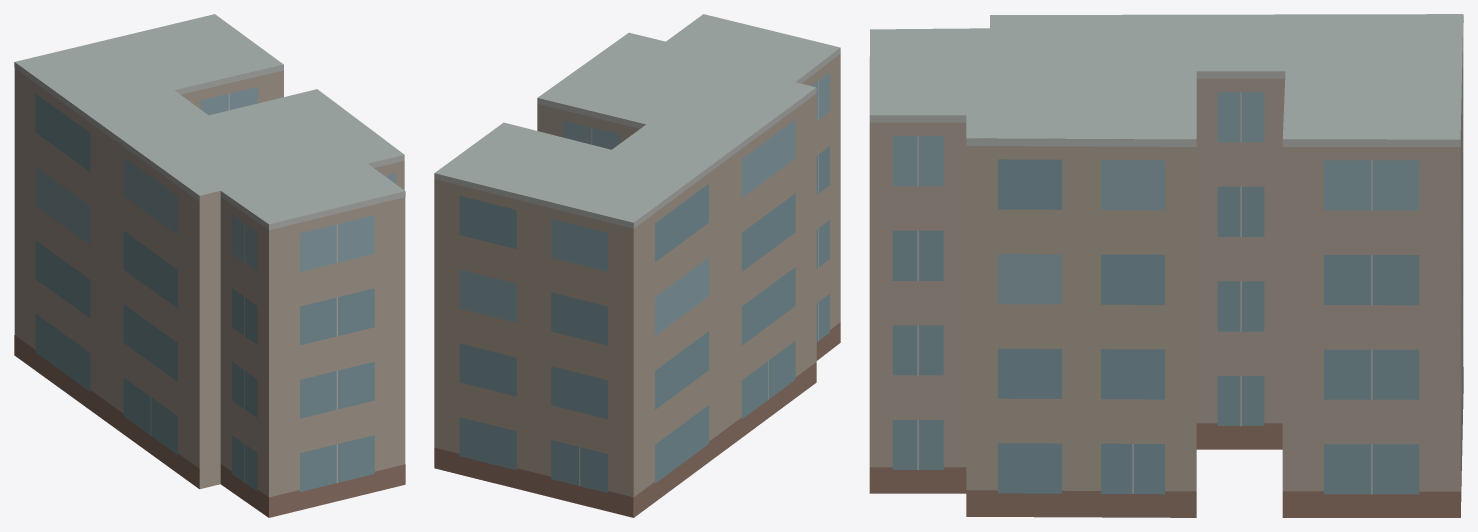
Rendered from survey-upis-32551912.glb.
3 renders of one model, left to right at view 1: azimuth 30°, elevation 25°; view 2: azimuth 150°, elevation 25°; view 3: azimuth 270°, elevation 25°, orthographic. The views are drawn at different scales.
Visible parts, largest first — view 1: survey-upis-32551912.tmp; view 2: survey-upis-32551912.tmp; view 3: survey-upis-32551912.tmp.
Boxes of the visible parts, x1=… form: survey-upis-32551912.tmp: x1=14, y1=14, x2=405, y2=517; survey-upis-32551912.tmp: x1=434, y1=14, x2=840, y2=517; survey-upis-32551912.tmp: x1=869, y1=14, x2=1463, y2=517.
Size of the model in its own units: 8.69 by 12.2 by 17.36.
